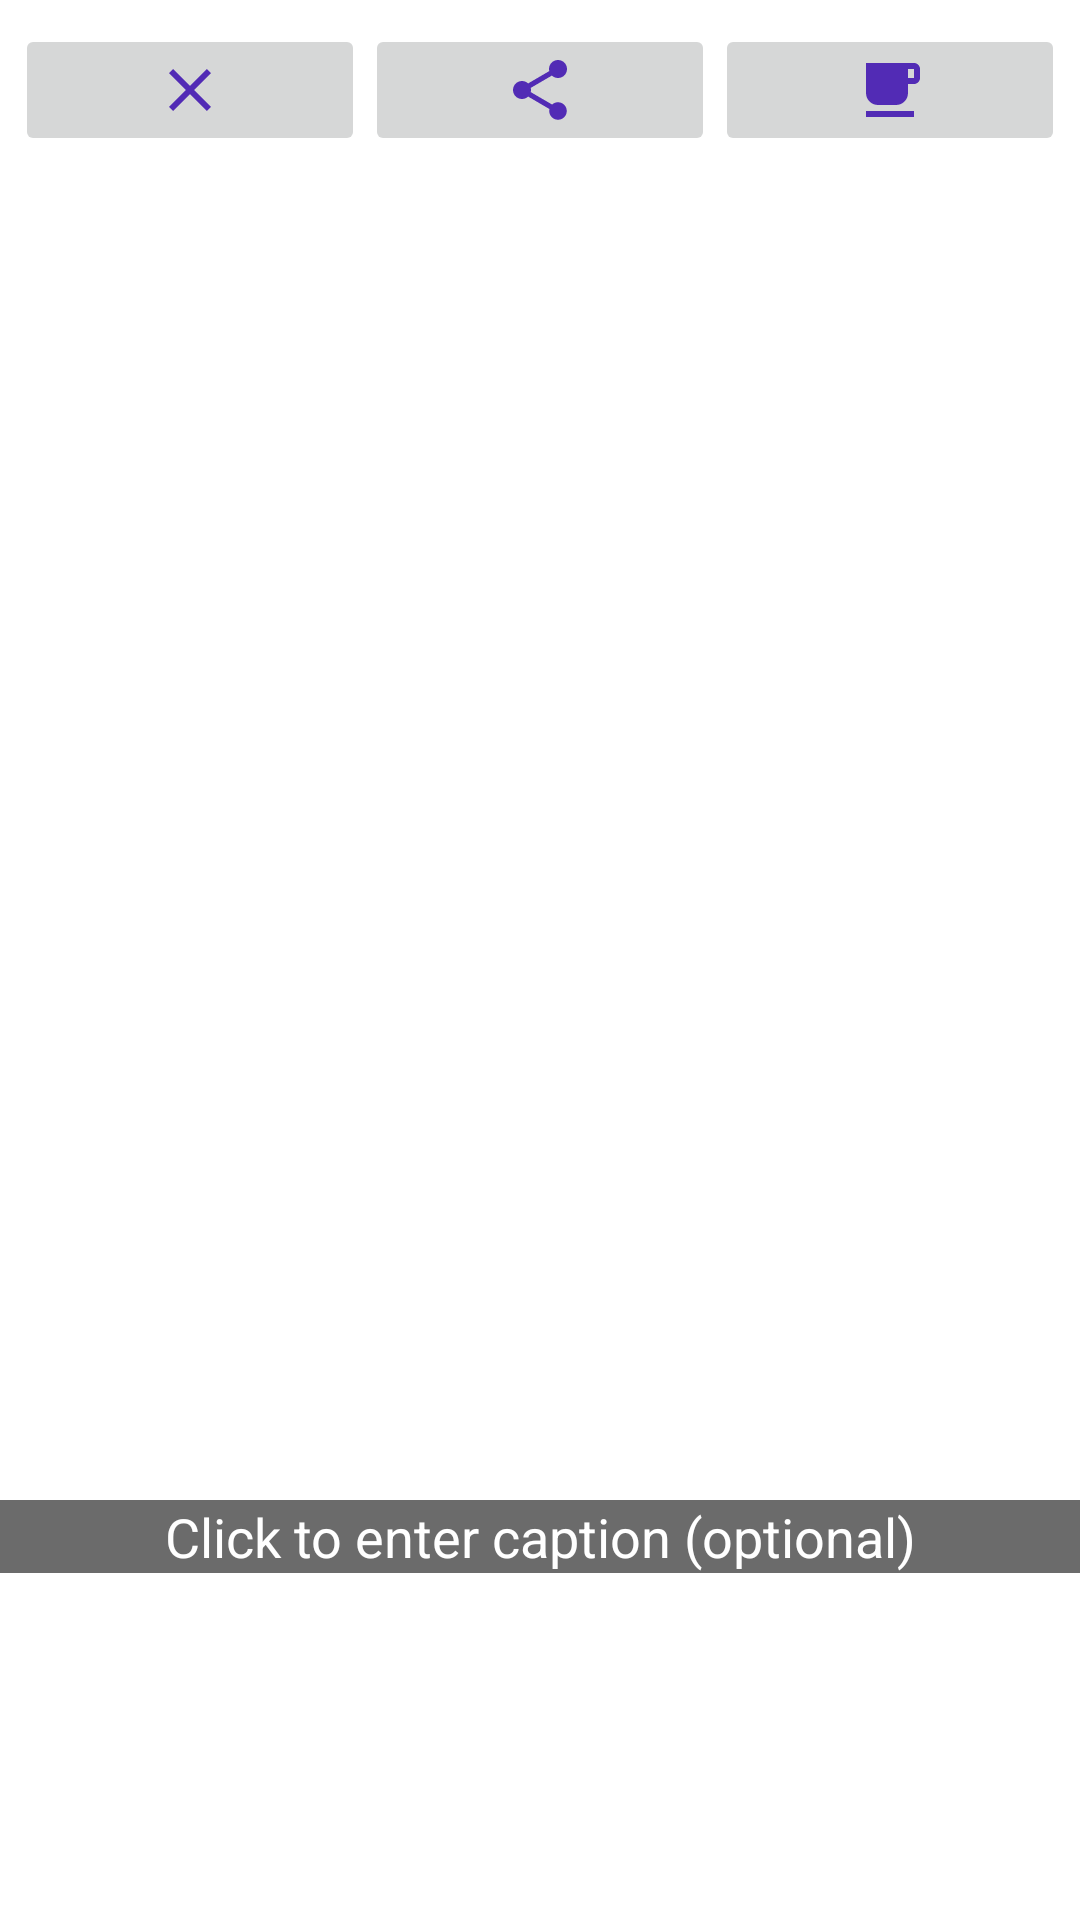

Icon click points for this 1080 × 1920 phone screenshot, format point (x, y):
discard photo: point (190, 90)
serve tea: point (890, 90)
share: point (540, 90)
